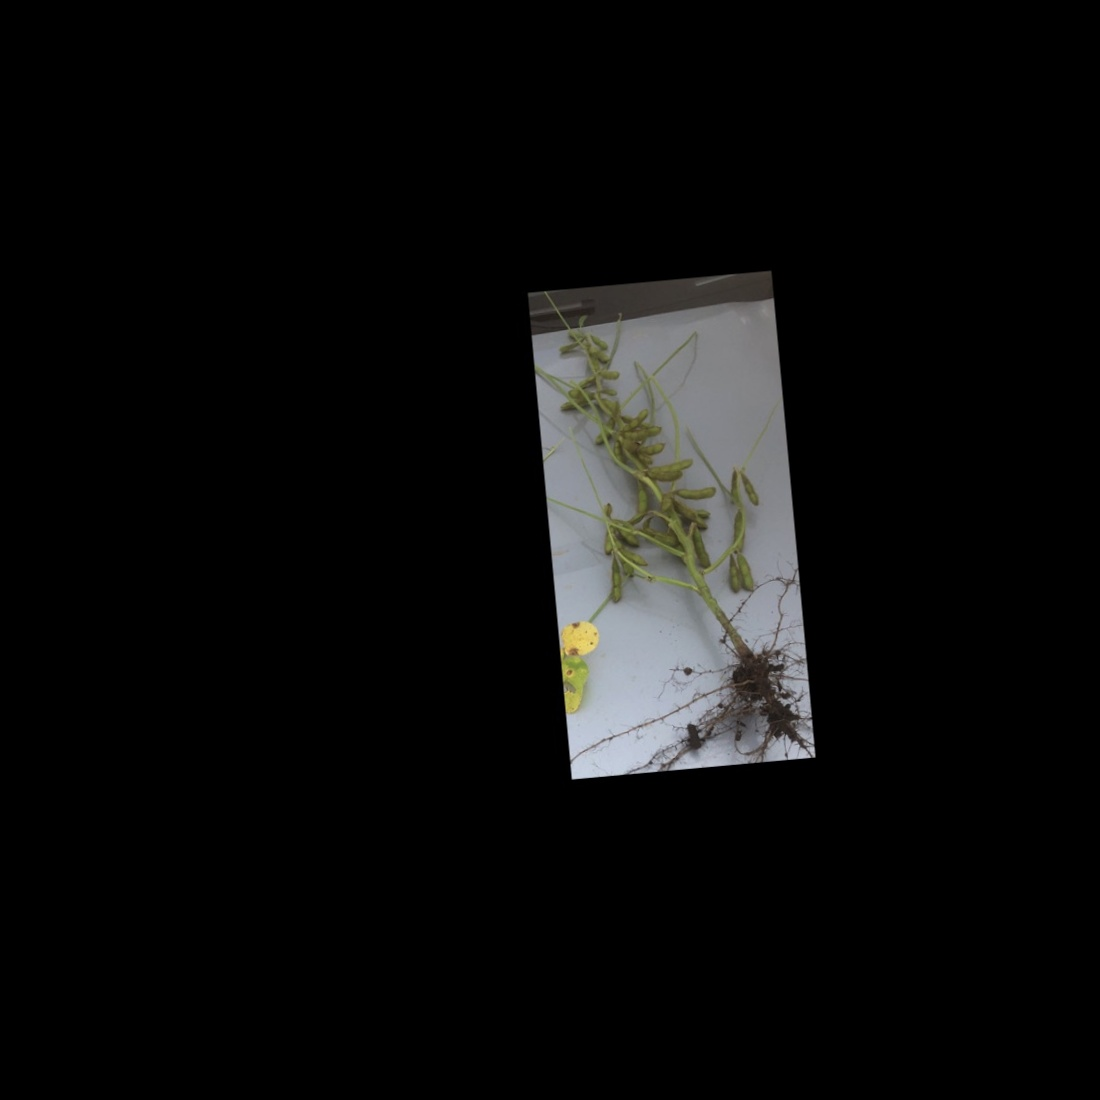pod: (690, 525, 714, 570), (740, 471, 766, 512), (673, 482, 718, 504), (735, 549, 758, 593), (606, 558, 625, 604), (724, 551, 741, 595), (631, 476, 647, 514), (596, 365, 622, 383), (636, 442, 667, 456), (590, 331, 611, 351), (596, 384, 618, 396)
soy: (545, 294, 792, 755)
